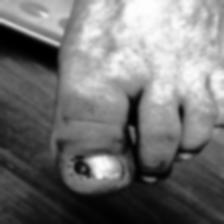Unclassified: (72, 162, 92, 174)
